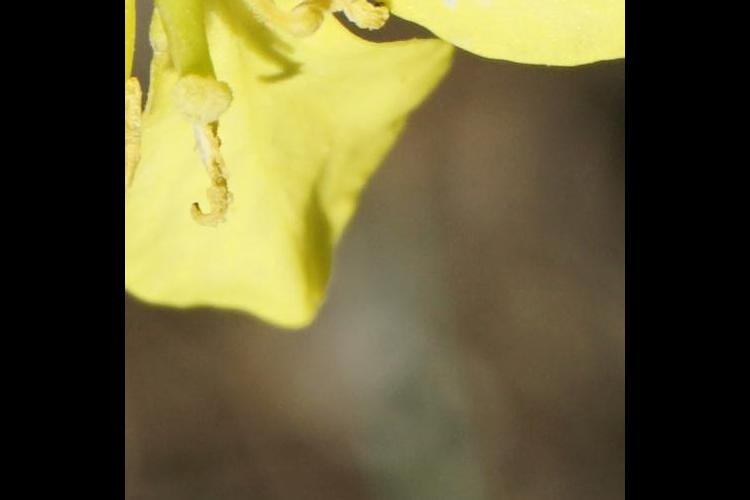yellow: (135, 1, 617, 326)
